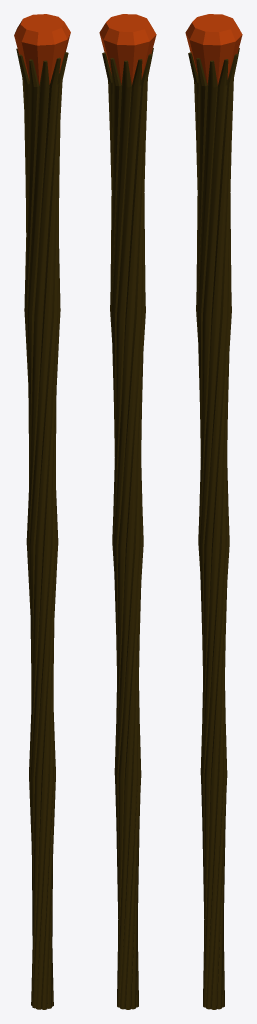
Rendered from HotRod.fbx.
3 renders of one model, left to right at view 1: azimuth 90°, elevation 25°; view 2: azimuth 150°, elevation 25°; view 3: azimuth 330°, elevation 25°, orthographic.
Parts seen in each view (by area): view 1: HotRod; view 2: HotRod; view 3: HotRod.
Boxes of the visible parts, <box> form: HotRod: <box>14,14,70,1009</box>; HotRod: <box>99,14,156,1009</box>; HotRod: <box>185,14,242,1009</box>.
Bounding box in the file's own units: 5.06 × 97.34 × 5.11.
